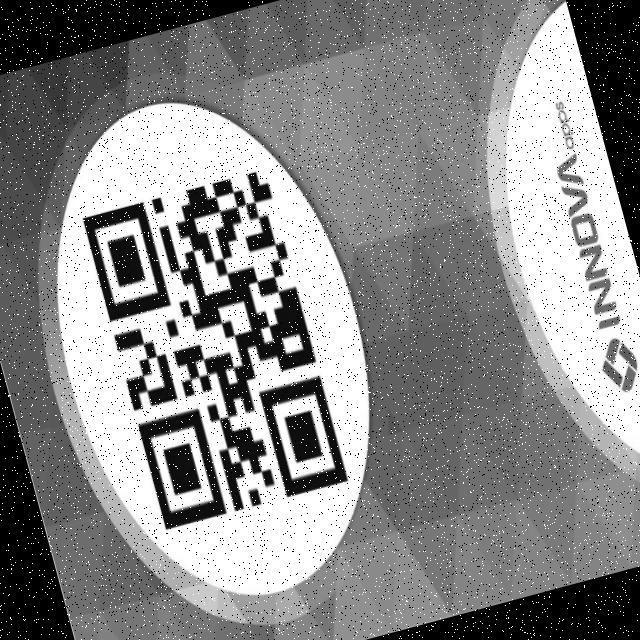QR-codes: (81, 167, 351, 532)
